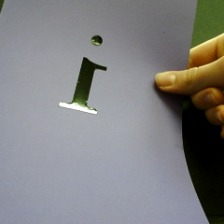violet1: (55, 30, 114, 123)
